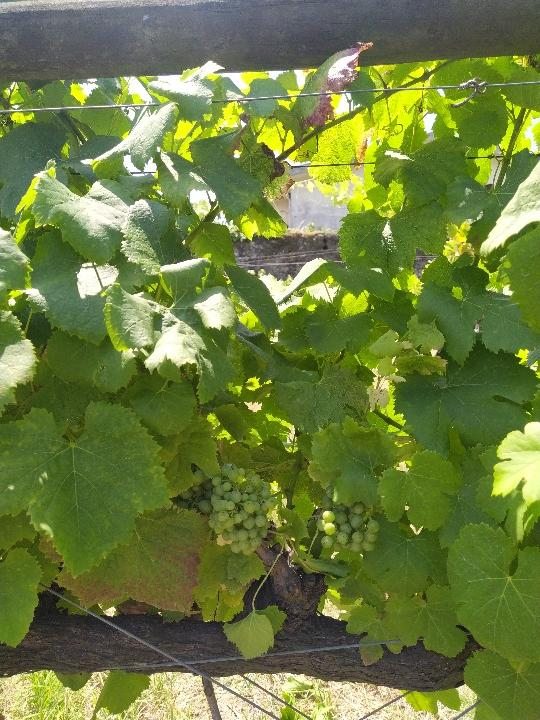grape: (178, 458, 281, 559), (312, 496, 383, 559)
